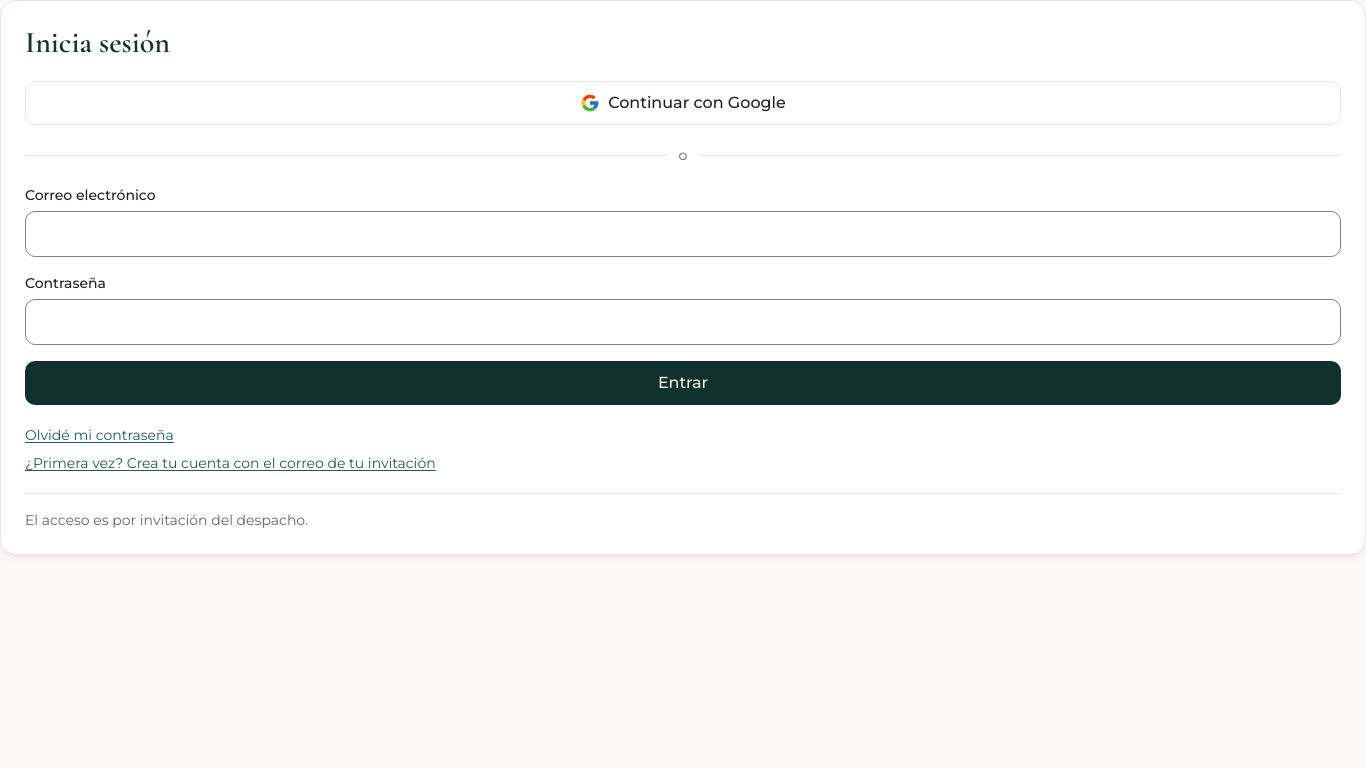
Test: an unexpected failure › says which one, to tell the firm (a suspended key, a service down)
The image size is (1366, 768).
Click the button "Continuar con Google". click: [683, 103]
box: 25,81 -> 1341,125
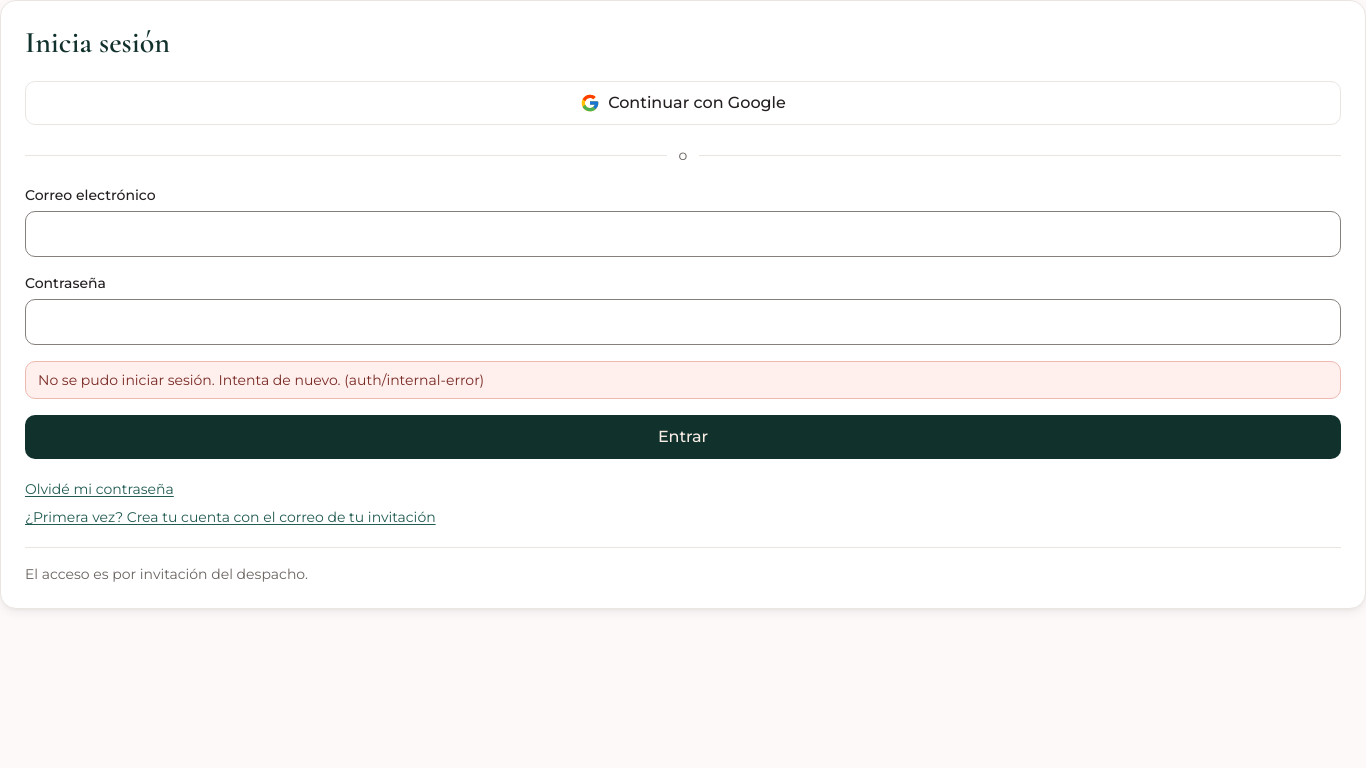
Now the message reads "No se pudo iniciar sesión. Intenta de nuevo. (auth/internal-error)", box 38,371 -> 484,389
